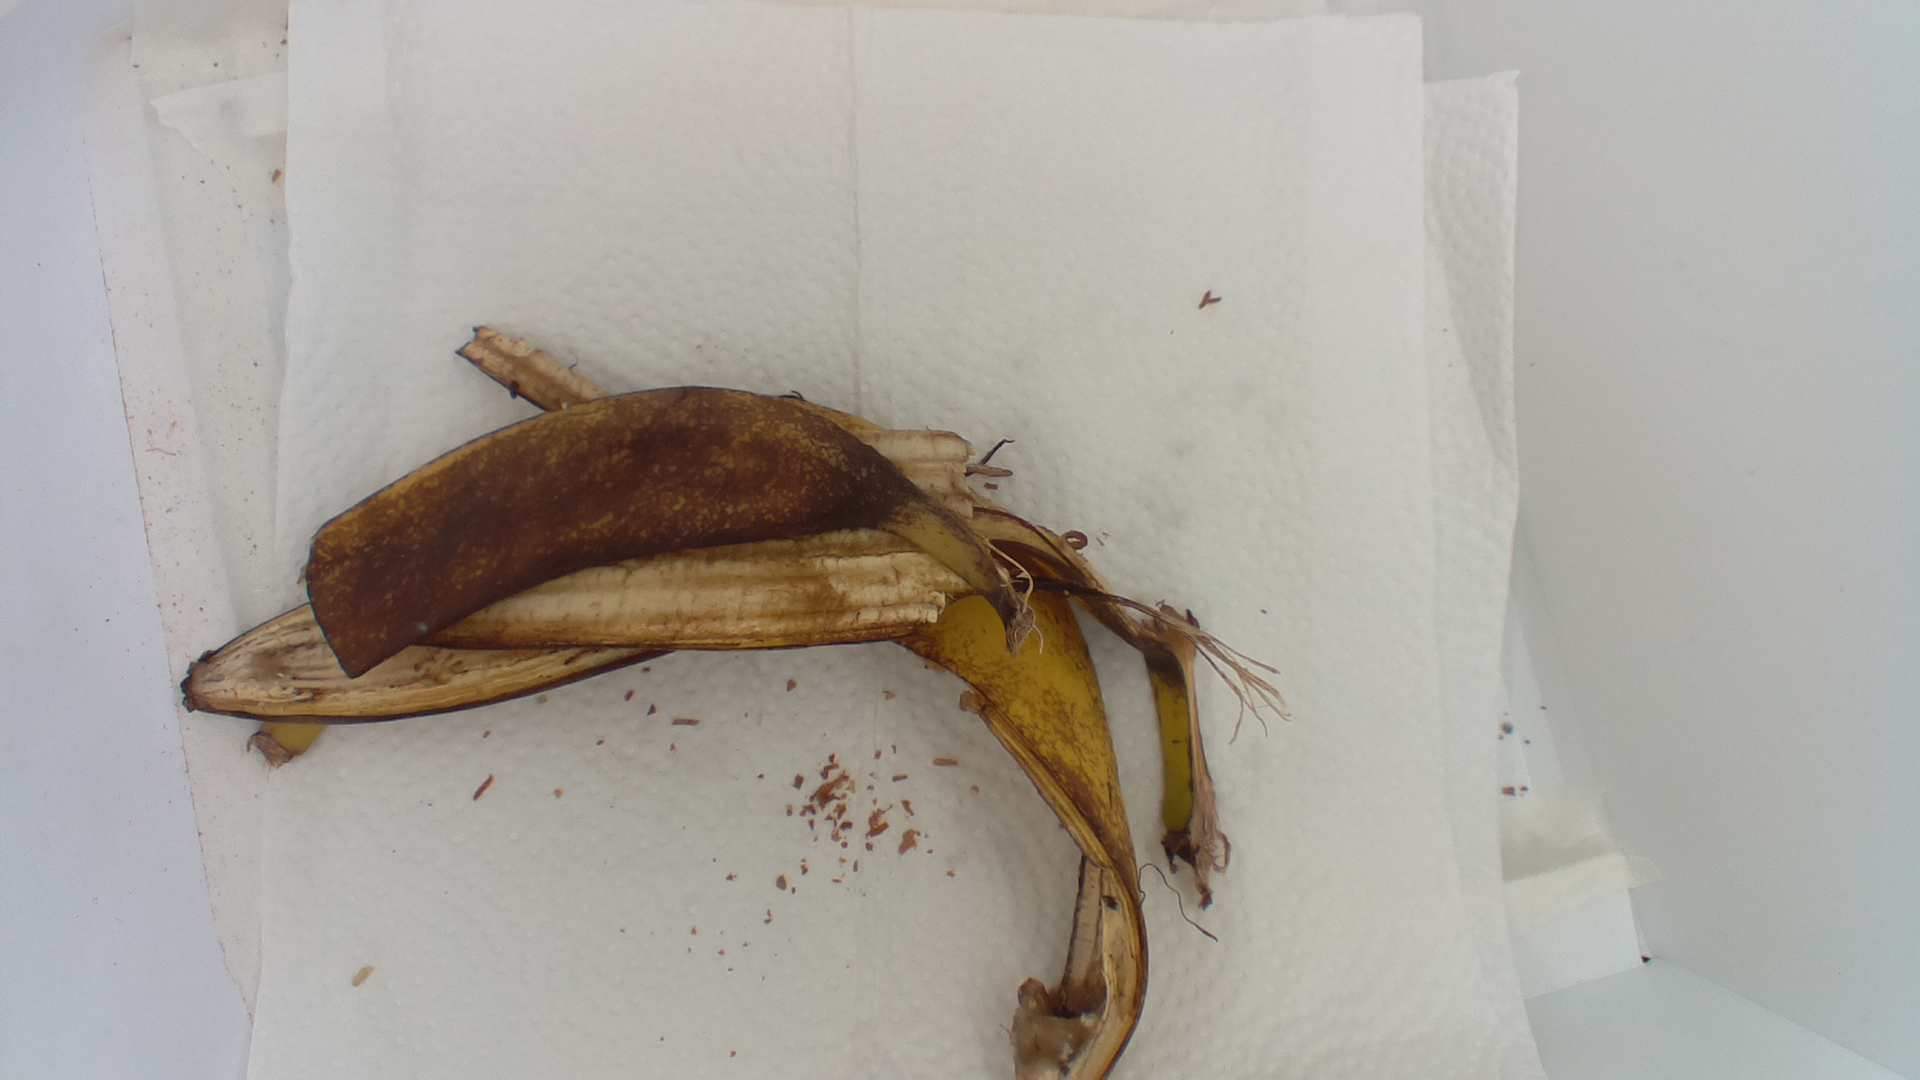fruit: (181, 313, 1229, 1080)
